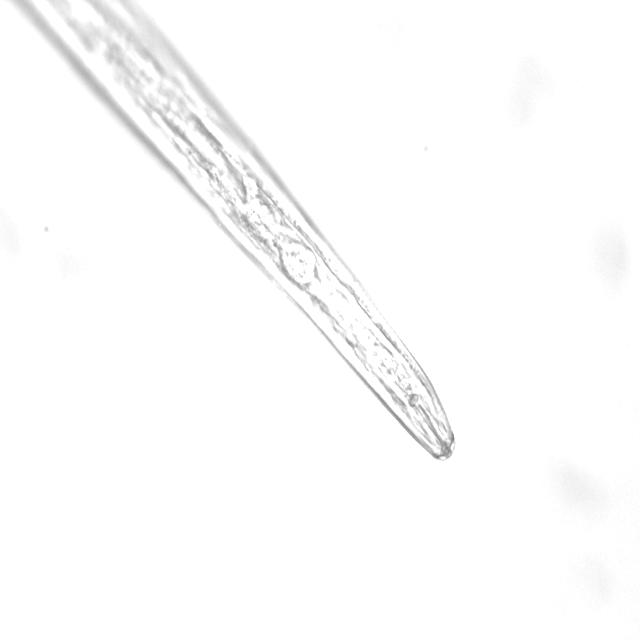Pratylenchus: (61, 14, 473, 472)
